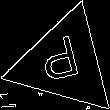P_S: (40, 34, 88, 92)
